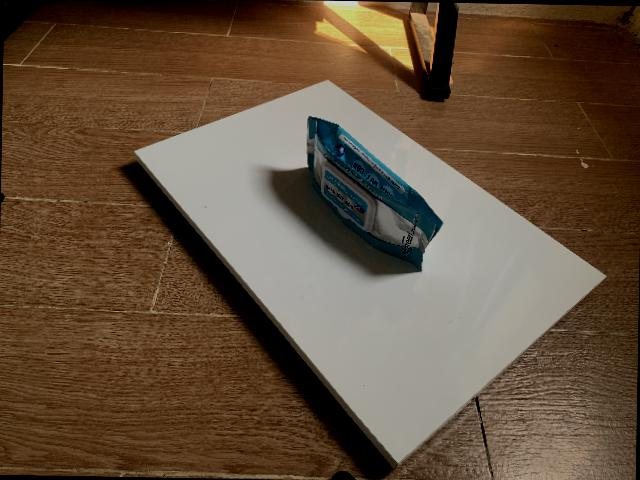Let-green_alcohol_wipes: (307, 116, 444, 271)
